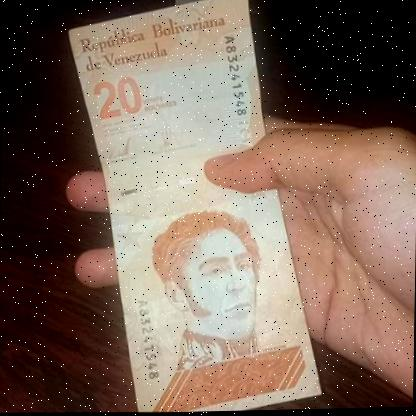vef_front: (47, 0, 332, 415)
